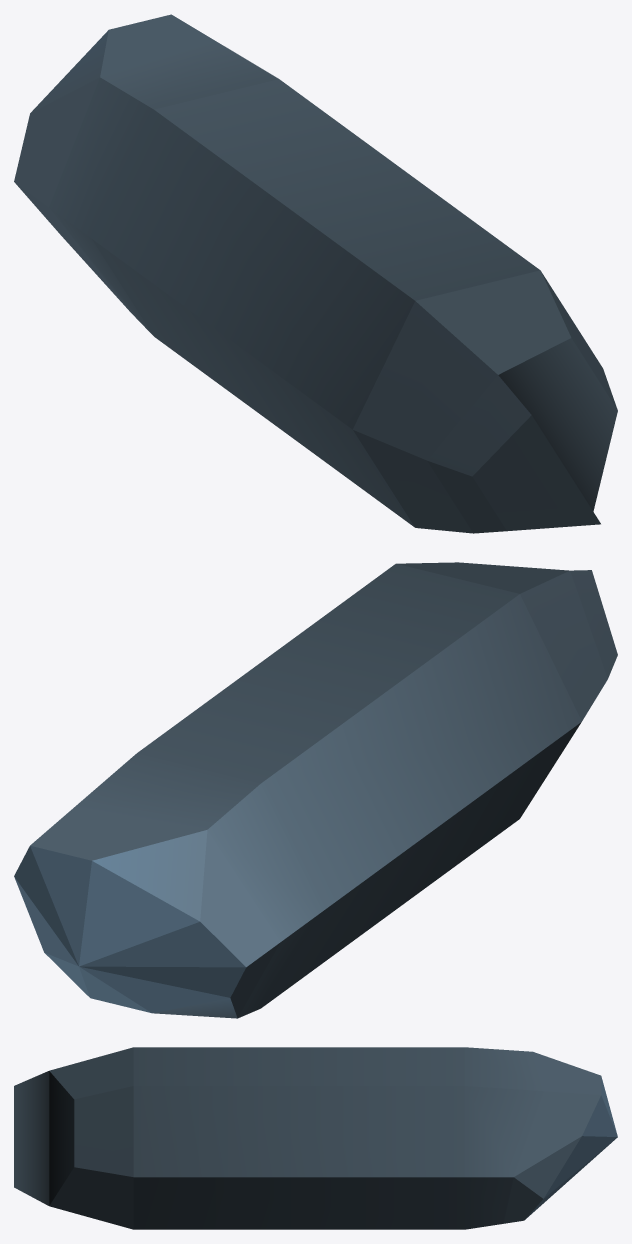
File: CalciteCrystal.002.glb
3 views of the same model, one above another, from view 1: azimuth 30°, elevation 25°; view 2: azimuth 150°, elevation 25°; view 3: azimuth 270°, elevation 25° (orthographic). The views are drawn at different scales.
Parts seen in each view (by area): view 1: CalciteCrystal.002; view 2: CalciteCrystal.002; view 3: CalciteCrystal.002.
Part boxes in pixels (box(x1,y1,x2,y2)): CalciteCrystal.002: box(14, 14, 617, 533); CalciteCrystal.002: box(14, 562, 617, 1018); CalciteCrystal.002: box(14, 1047, 617, 1229).
Bounding box in the file's own units: 221 × 192 × 730.
